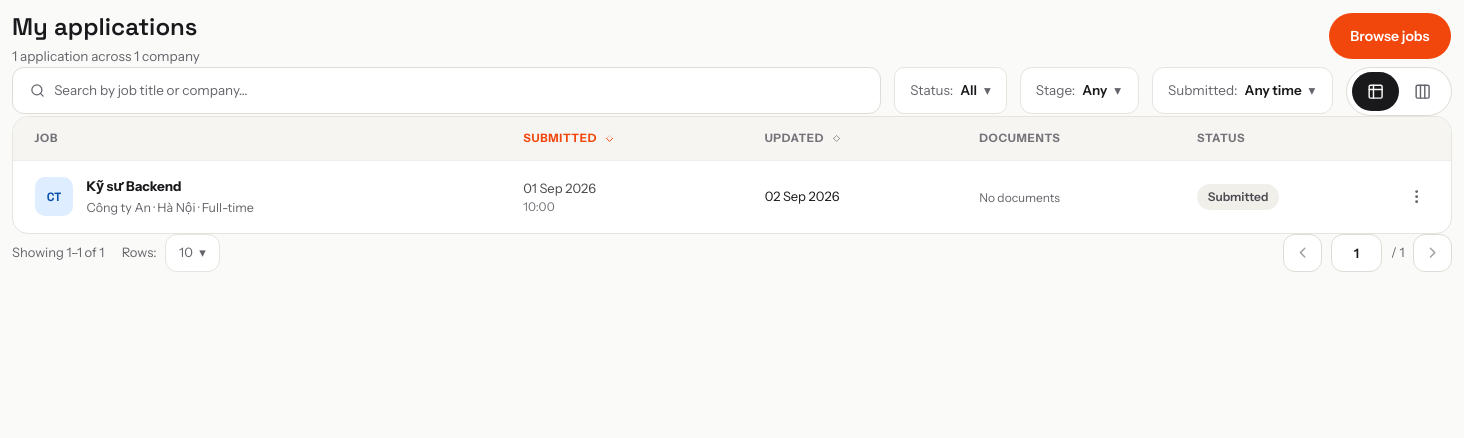
Scenario: Candidate My Applications › shows server results in the table and switches to the board
Expected: the link "CT Kỹ sư Backend Công ty An · Hà Nội · Full-time" is shown, [35, 178, 254, 216]
Expected: the text "APP-9011" is not shown
Click the button named "Board" at (1423, 91), box [1399, 72, 1447, 111]
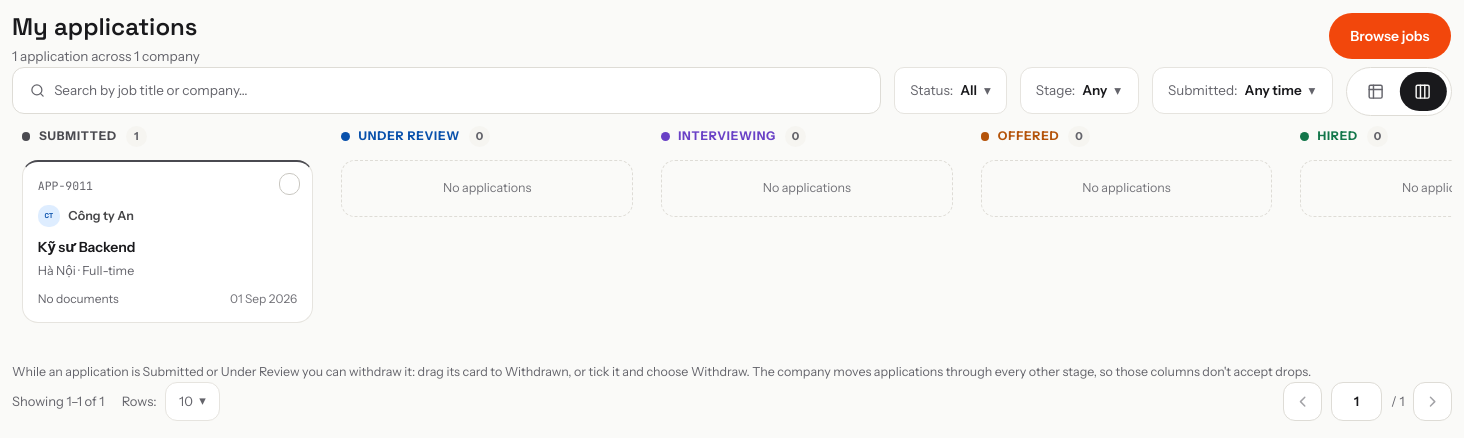
Now the element "Submitted" is shown, box [12, 116, 323, 333]
Now the checkbox named "Select APP-9011" is shown, box [279, 173, 300, 195]
